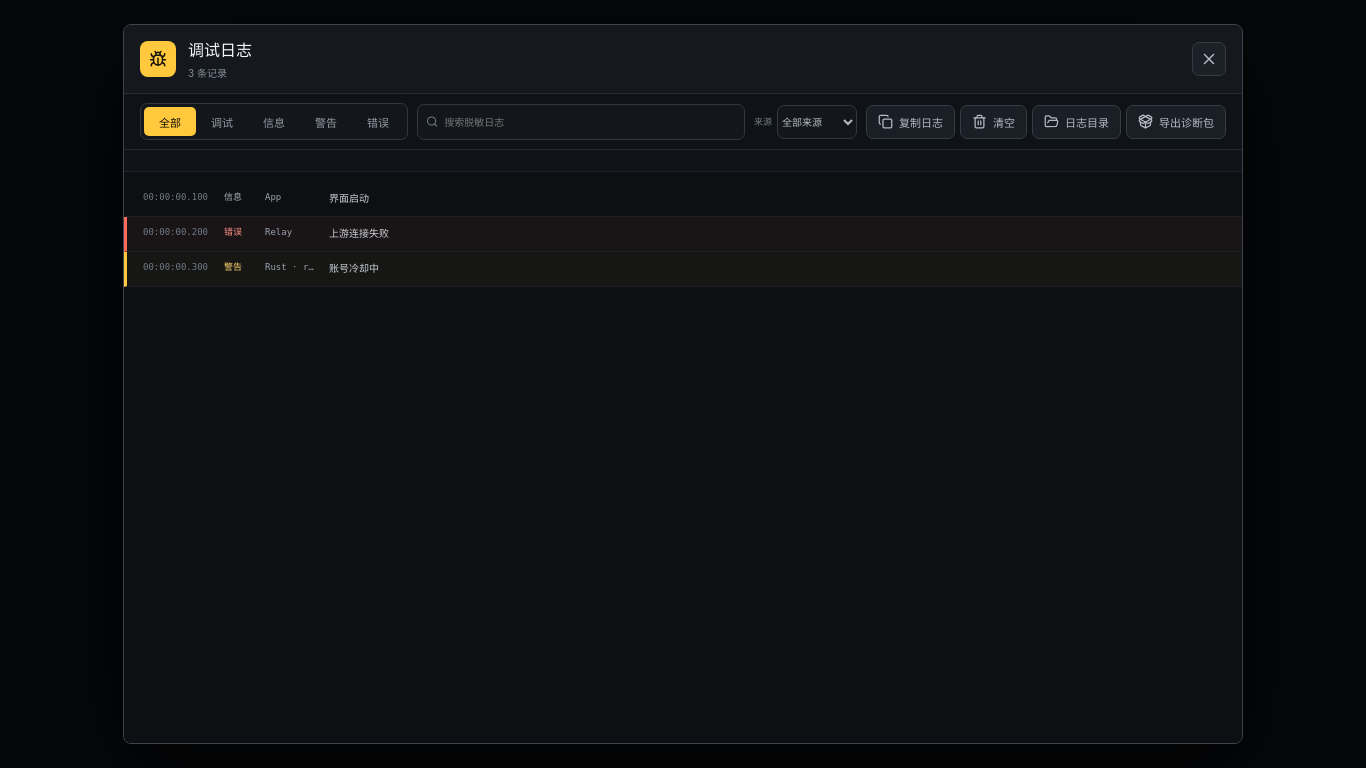
Scenario: DebugPanel › runs the persistent log maintenance and diagnostic export actions
expect the text "账号冷却中" is shown: met, box [329,263,379,274]
Click the button "清空" at (994, 122), box [960,104,1027,138]
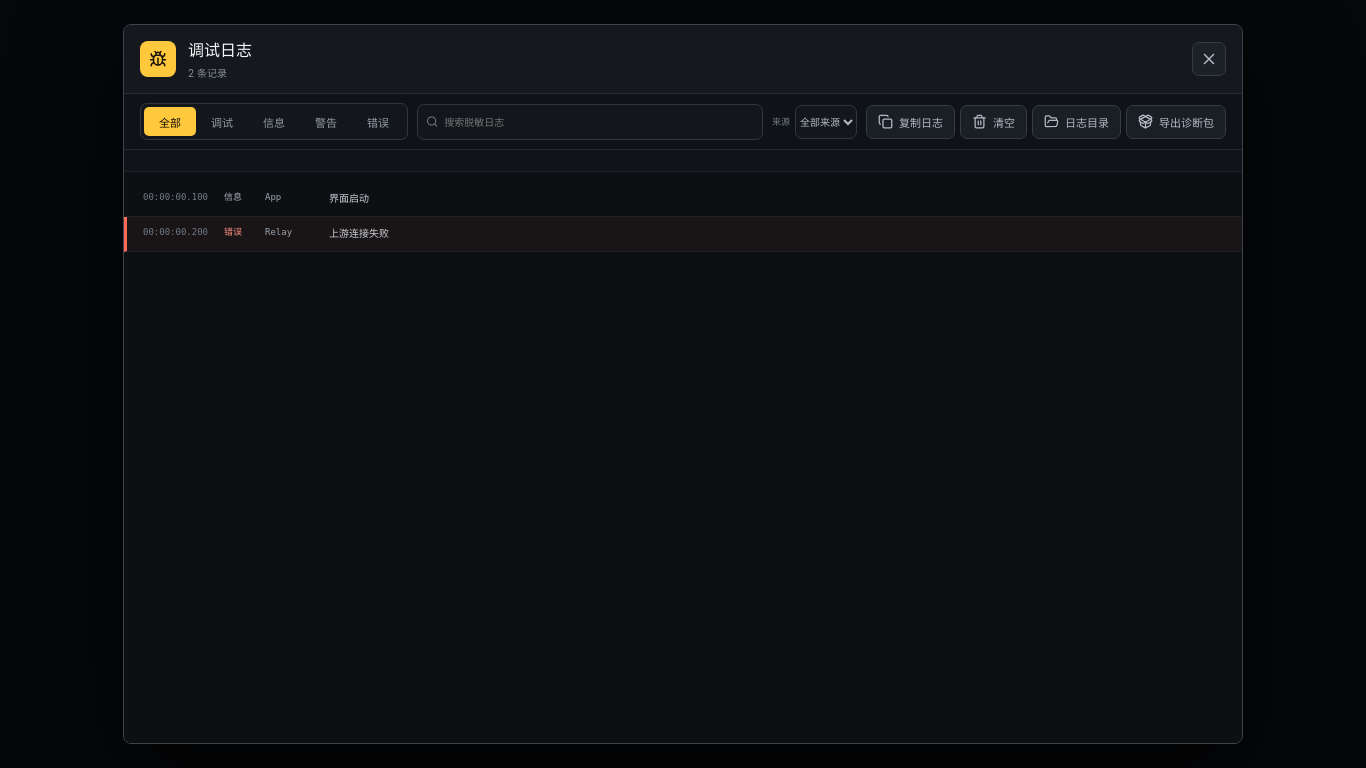
Click the button "日志目录" at (1076, 122), box [1032,104,1121,138]
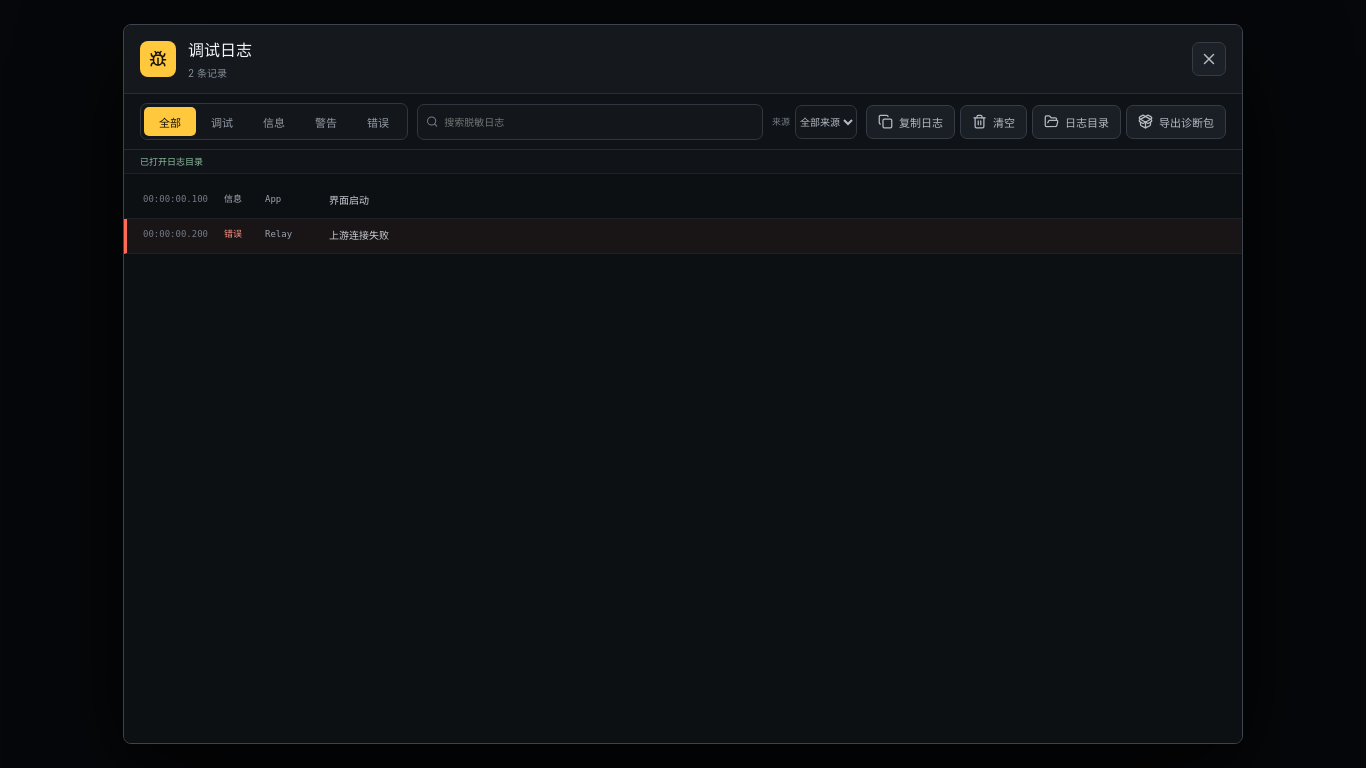
expect the message reads "已打开日志目录": met, box [140,156,203,167]
Click the button "导出诊断包" at (1176, 122), box [1126,104,1226,138]
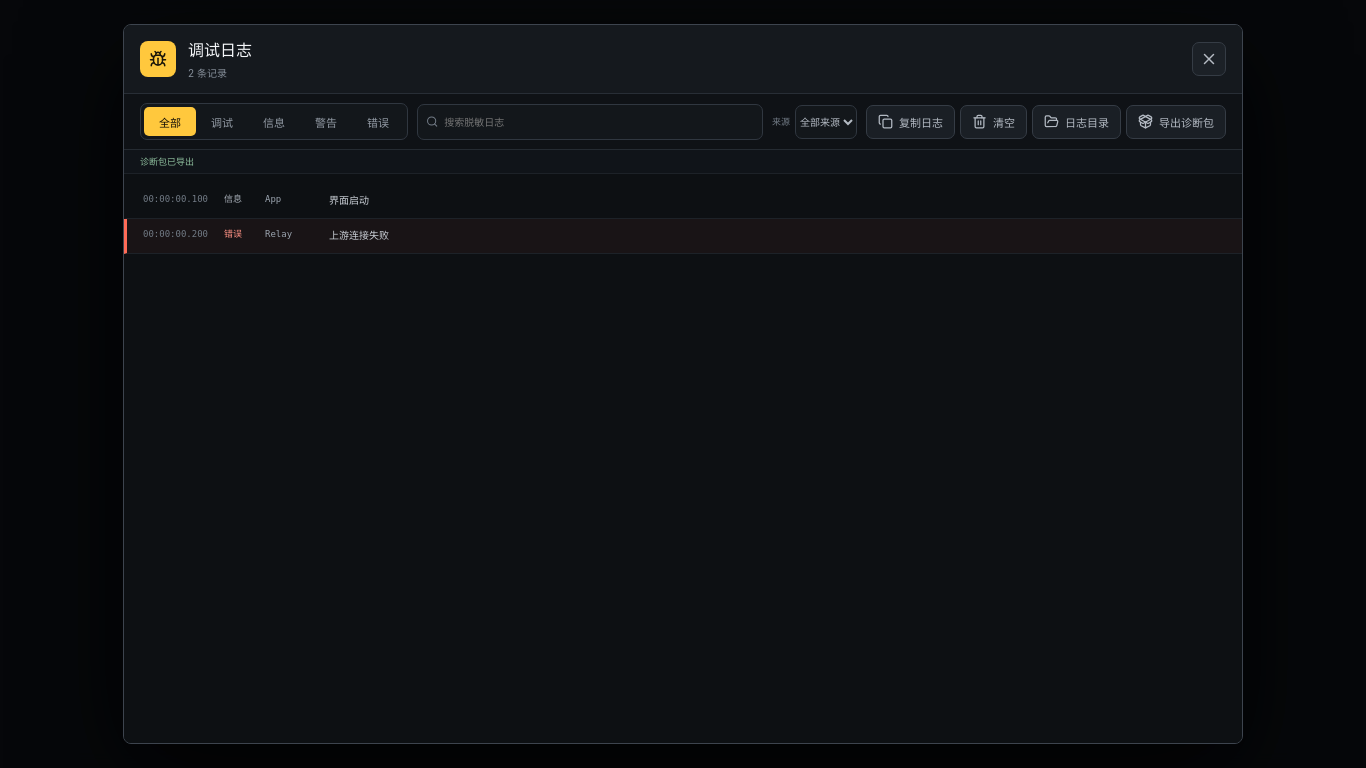
expect the message reads "诊断包已导出": met, box [140,156,194,167]
